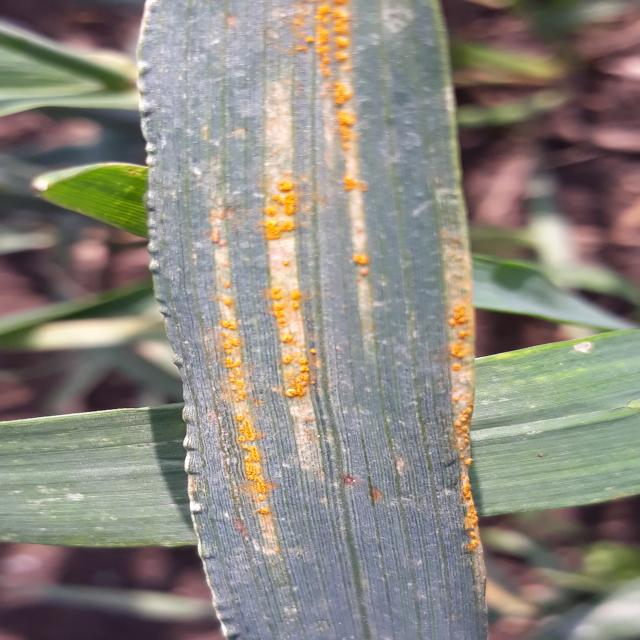yellow_rust: (88, 23, 540, 580)
